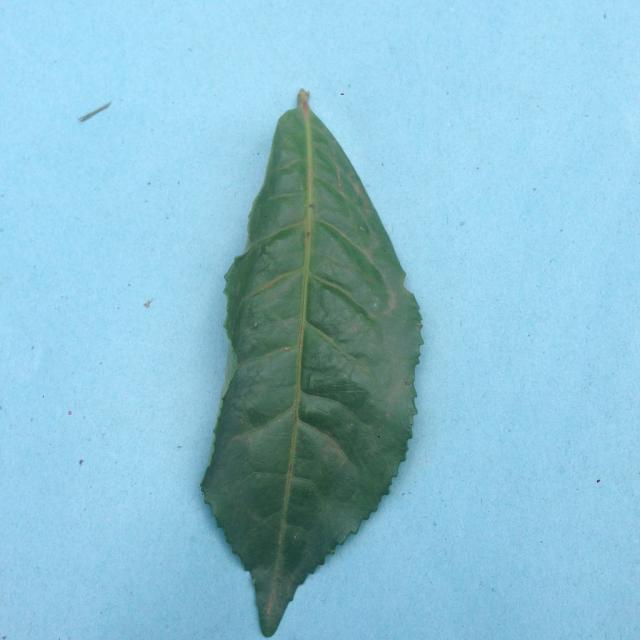Healthy: (173, 75, 432, 640)
